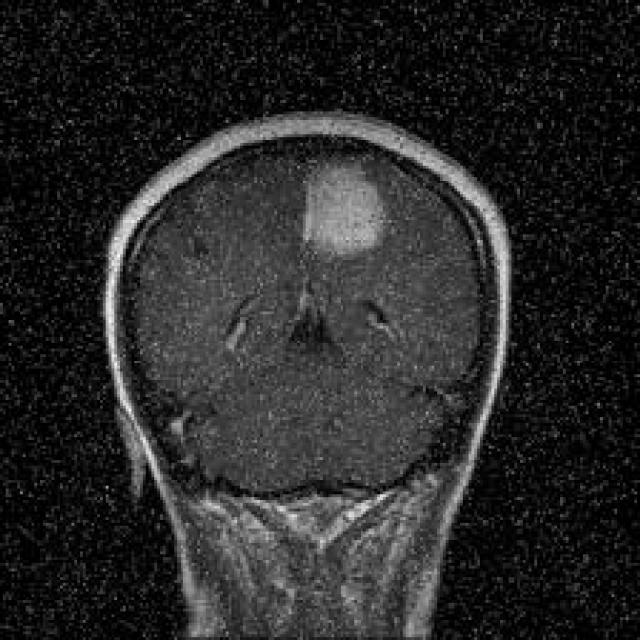meningioma_tumor: (283, 138, 400, 272)
